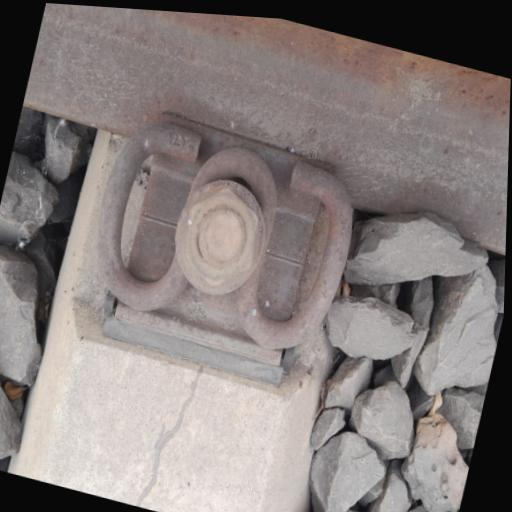bolt: (153, 137, 292, 325)
clip: (54, 70, 392, 403)
